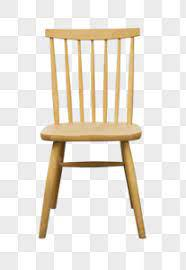chair: (22, 22, 156, 242)
